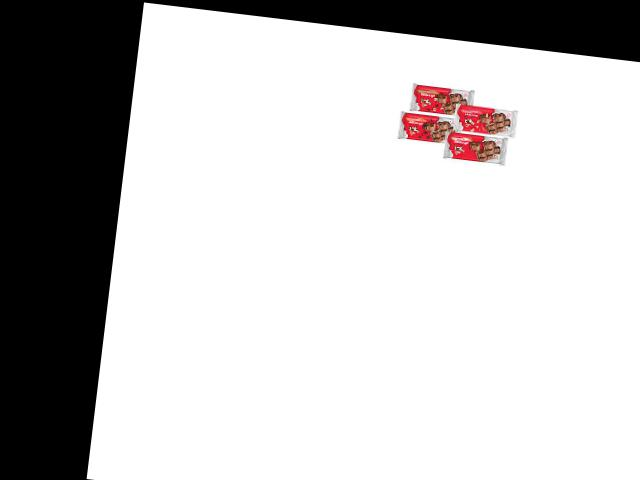chocolate: (403, 79, 479, 124)
